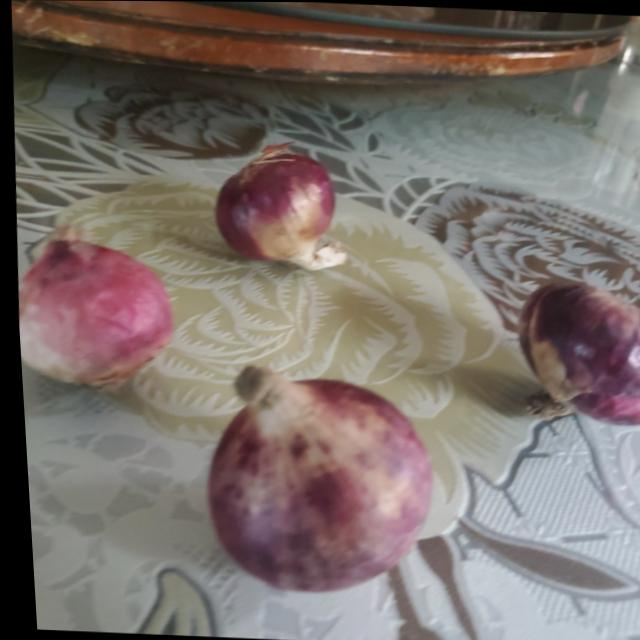onion: (191, 372, 455, 599), (11, 239, 171, 391), (513, 277, 640, 433), (210, 145, 339, 268)
